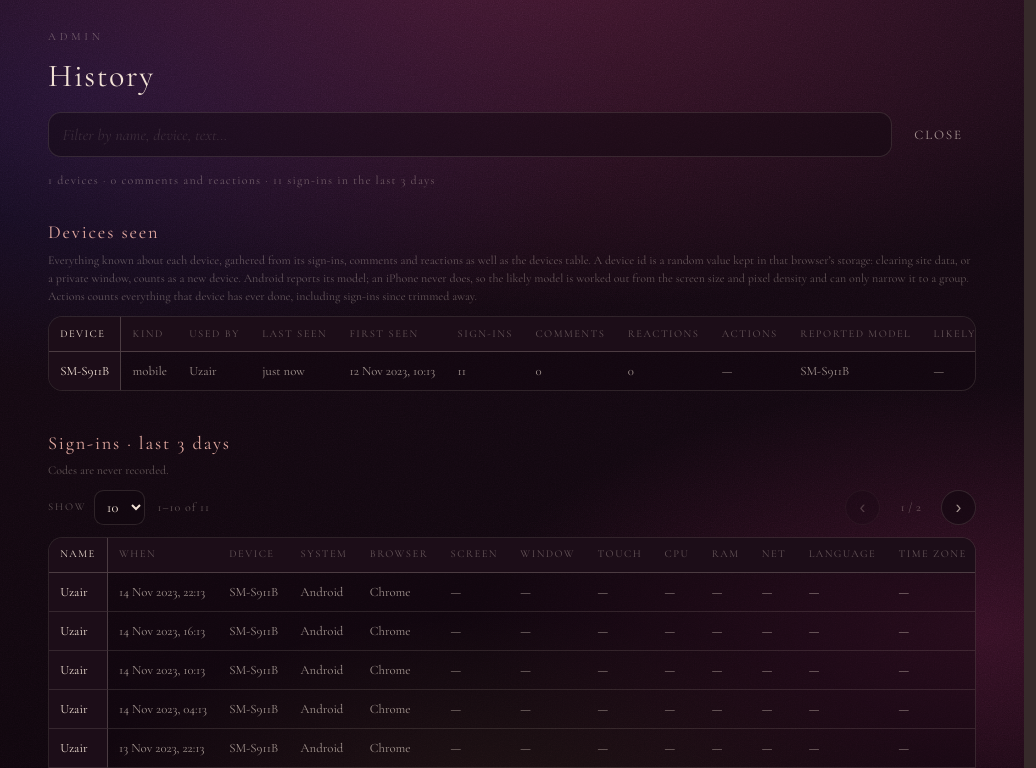
it: the sign-ins table › offers bigger pages, and uses the one chosen
Select "20" in the dropdown named "how many sign-ins": (119, 508) [94,490,145,525]
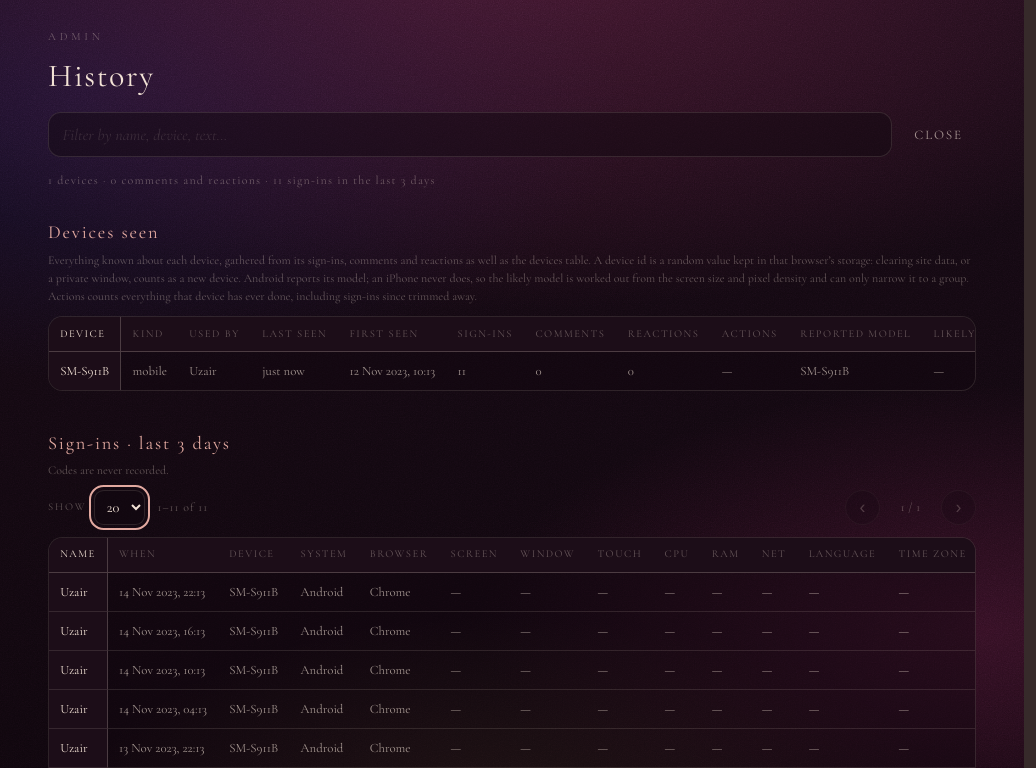
expect the text "1–11 of 11" is shown: met, box [157,498,208,517]
